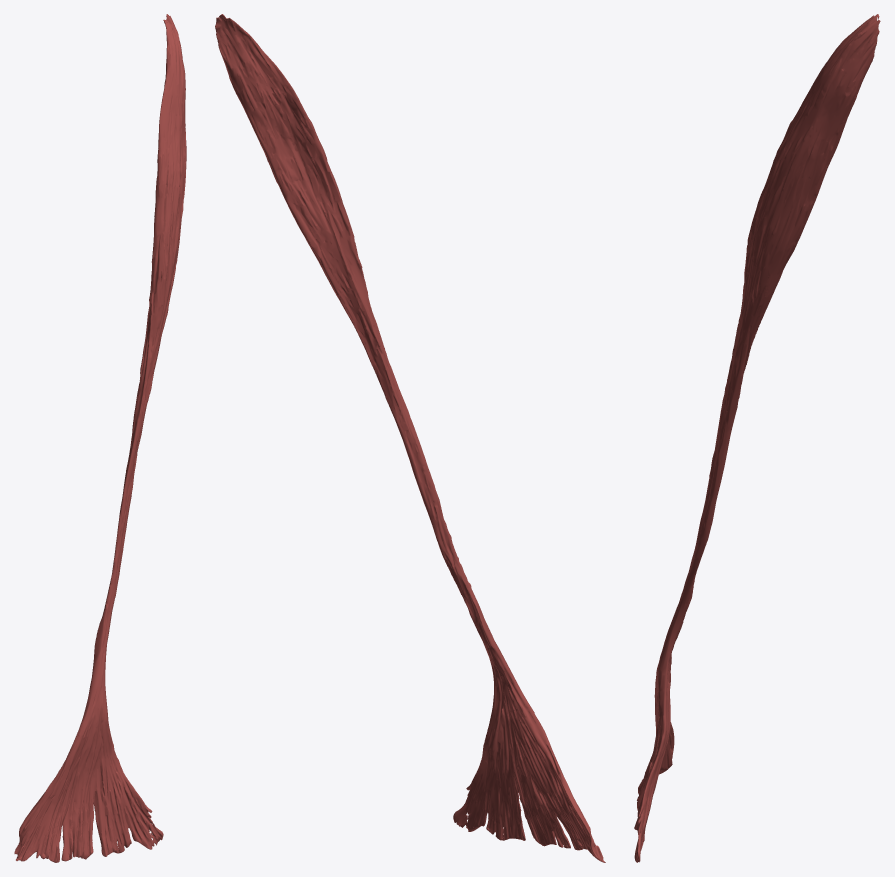
Rendered from FMA38463.glb.
3 renders of one model, left to right at view 1: azimuth 30°, elevation 25°; view 2: azimuth 150°, elevation 25°; view 3: azimuth 270°, elevation 25°, orthographic. The views are drawn at different scales.
Parts seen in each view (by area): view 1: FMA38463; view 2: FMA38463; view 3: FMA38463.
Boxes of the visible parts, <box> form: FMA38463: <box>14,14,186,862</box>; FMA38463: <box>215,14,605,862</box>; FMA38463: <box>634,14,880,862</box>.
Bounding box in the file's own units: 0.1116 × 0.3208 × 0.0781.
